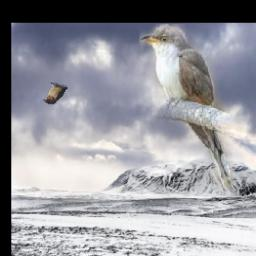Cuckoo: (139, 24, 233, 189)
Swallow: (43, 83, 69, 105)
